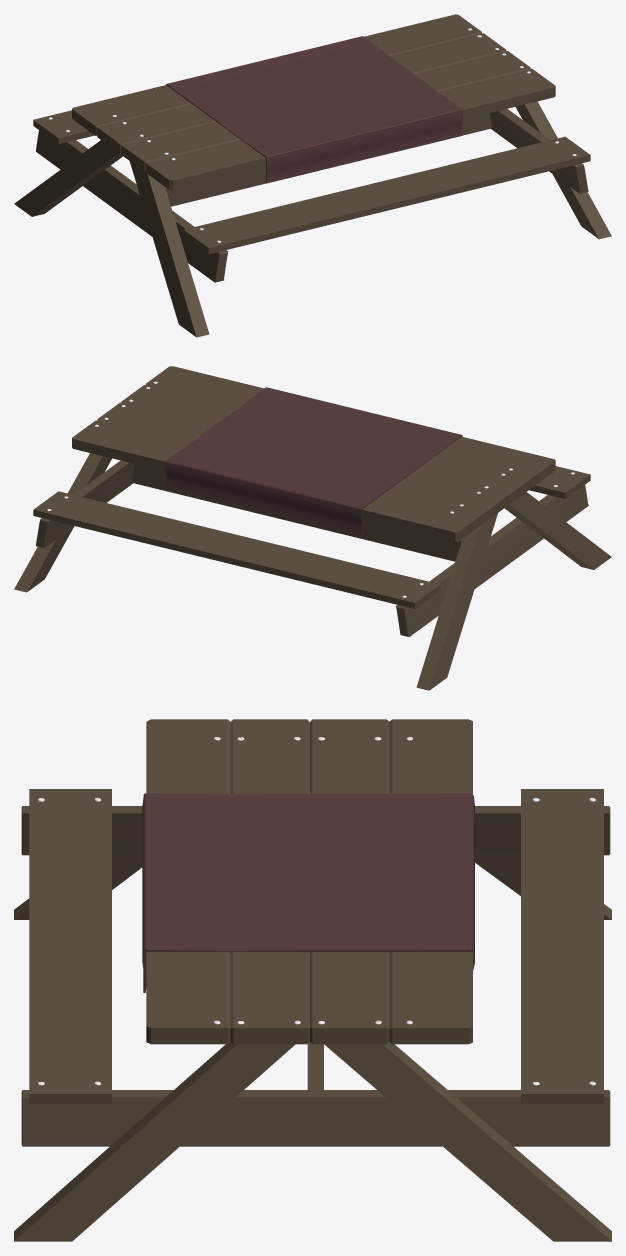
Rendered from Picnic.fbx.
3 views of the same model, one above another, from view 1: azimuth 30°, elevation 25°; view 2: azimuth 150°, elevation 25°; view 3: azimuth 270°, elevation 25° (orthographic). The views are drawn at different scales.
Visible parts, largest first — view 1: Table, Tablecloth; view 2: Table, Tablecloth; view 3: Table, Tablecloth.
Part boxes in pixels (bbox=[...]): Table: bbox=[14, 14, 611, 337]; Tablecloth: bbox=[166, 36, 462, 183]; Table: bbox=[14, 366, 611, 690]; Tablecloth: bbox=[165, 387, 462, 534]; Table: bbox=[14, 719, 611, 1241]; Tablecloth: bbox=[142, 793, 474, 992].
Size of the model in its own units: 2.71 by 0.7775 by 2.06.
